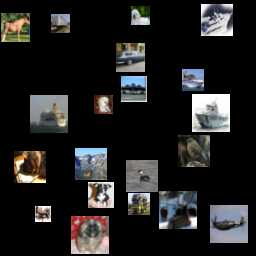airplane: (21, 202, 59, 240)
automobile: (194, 127, 232, 165), (78, 211, 113, 246), (42, 23, 74, 55), (105, 112, 134, 141), (11, 82, 40, 111)
bird: (138, 183, 173, 218), (84, 76, 113, 105), (46, 63, 75, 92), (15, 19, 41, 45), (54, 133, 80, 159)
cat: (156, 48, 172, 64)
deer: (148, 144, 186, 182), (214, 208, 249, 243)
dog: (175, 49, 213, 87)
frog: (96, 174, 122, 200), (132, 90, 151, 109)
ship: (8, 130, 46, 168), (206, 3, 235, 32), (141, 24, 163, 46)
